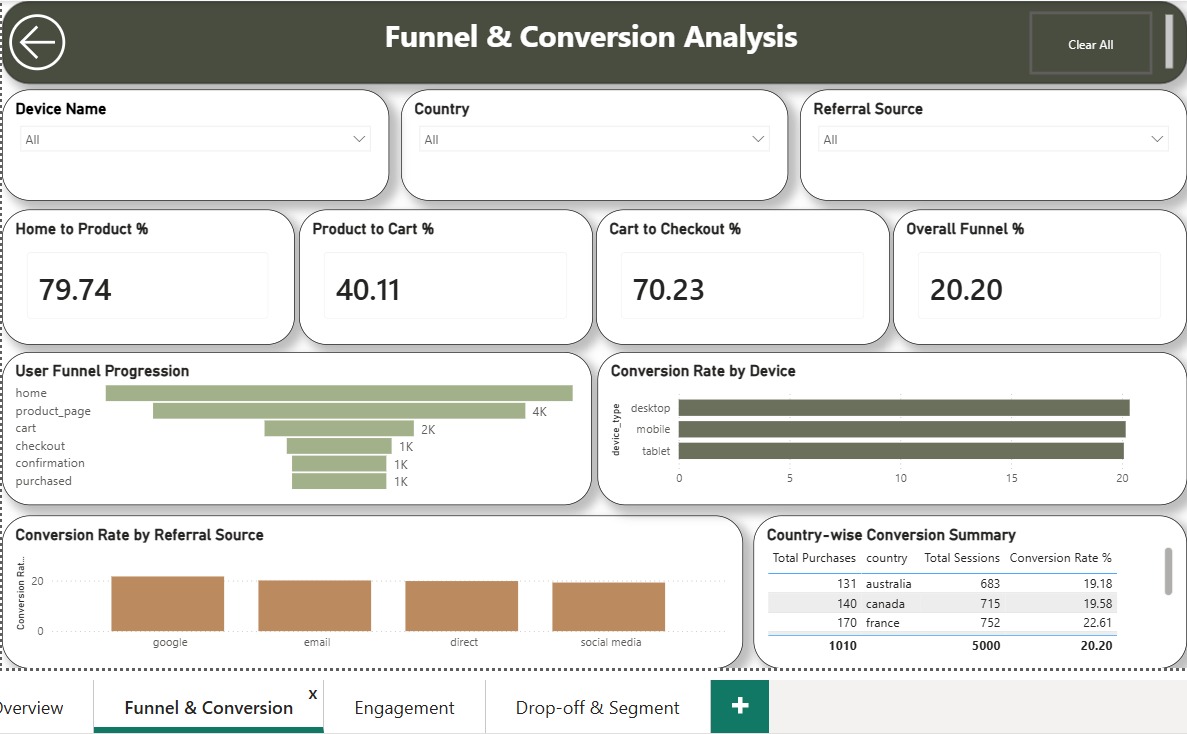

This screenshot's page, from the dashboard's own definition file:
{"tool":"powerbi","page":{"name":"Funnel & Conversion","canvas":[1280,720],"ordinal":1},"visuals":[{"type":"textbox","box":[0,0,1279.4,71.8],"z":0},{"type":"slicer","title":"Device Type","fields":{"Values":["session_master.device_type"]},"box":[0,79.4,423.3,111.5],"z":1000},{"type":"slicer","title":"Referral Source","fields":{"Values":["session_master.referral_source"]},"box":[856.1,79.4,423.3,111.5],"z":2000},{"type":"slicer","title":"Country","fields":{"Values":["session_master.country"]},"box":[427.1,79.4,423.3,111.5],"z":3000},{"type":"cardVisual","title":"Home to Product %","fields":{"Data":["session_master.Home to Product %"]},"box":[0,198.4,313.7,130.4],"z":4000},{"type":"cardVisual","title":"Overall Funnel %","fields":{"Data":["session_master.Overall Funnel %"]},"box":[965.7,198.4,313.7,130.4],"z":5000},{"type":"cardVisual","title":"Cart to Checkout %","fields":{"Data":["session_master.Cart to Checkout %"]},"box":[644.4,198.4,313.7,130.4],"z":6000},{"type":"cardVisual","title":"Product to Cart %","fields":{"Data":["session_master.Product to Cart %"]},"box":[321.3,198.4,313.7,130.4],"z":7000},{"type":"funnel","title":"User Funnel Progression","fields":{"Category":["funnel_summary_enhanced.stage"],"Y":["Sum(funnel_summary_enhanced.sessions)"]},"box":[0,336.4,635,187.1],"z":8000},{"type":"clusteredColumnChart","title":"Conversion Rate by Referral Source","fields":{"Category":["session_master.referral_source"],"Y":["session_master.Conversion Rate %"]},"box":[0,531.3,827.1,186.1],"z":9000},{"type":"clusteredColumnChart","title":"Conversion Rate by Device Type","fields":{"Category":["session_master.device_type"],"Y":["session_master.Conversion Rate %"]},"box":[644.4,336.4,635,187.1],"z":10000},{"type":"tableEx","title":"Country Conversion Summary","fields":{"Values":["session_master.Total Purchases","session_master.Total Sessions","session_master.Conversion Rate %","session_master.country"]},"box":[836.7,534.4,442.2,186.1],"z":11000},{"type":"actionButton","box":[0,0,76.3,71.6],"z":12000},{"type":"actionButton","box":[1162.2,9.4,100.2,52.9],"z":13000}]}

Visuals, with their boxes on the page's 1280x720 design canvas (x1, y1, x2, y2). These are canvas units, not pixel positions in the 1187x734 screenshot, which may show the page scaled, cropped or inside an application window:
textbox: Rect(0, 0, 1279, 72)
"Device Type" slicer: Rect(0, 79, 423, 191)
"Referral Source" slicer: Rect(856, 79, 1279, 191)
"Country" slicer: Rect(427, 79, 850, 191)
"Home to Product %" cardVisual: Rect(0, 198, 314, 329)
"Overall Funnel %" cardVisual: Rect(966, 198, 1279, 329)
"Cart to Checkout %" cardVisual: Rect(644, 198, 958, 329)
"Product to Cart %" cardVisual: Rect(321, 198, 635, 329)
"User Funnel Progression" funnel: Rect(0, 336, 635, 524)
"Conversion Rate by Referral Source" clusteredColumnChart: Rect(0, 531, 827, 717)
"Conversion Rate by Device Type" clusteredColumnChart: Rect(644, 336, 1279, 524)
"Country Conversion Summary" tableEx: Rect(837, 534, 1279, 720)
actionButton: Rect(0, 0, 76, 72)
actionButton: Rect(1162, 9, 1262, 62)
